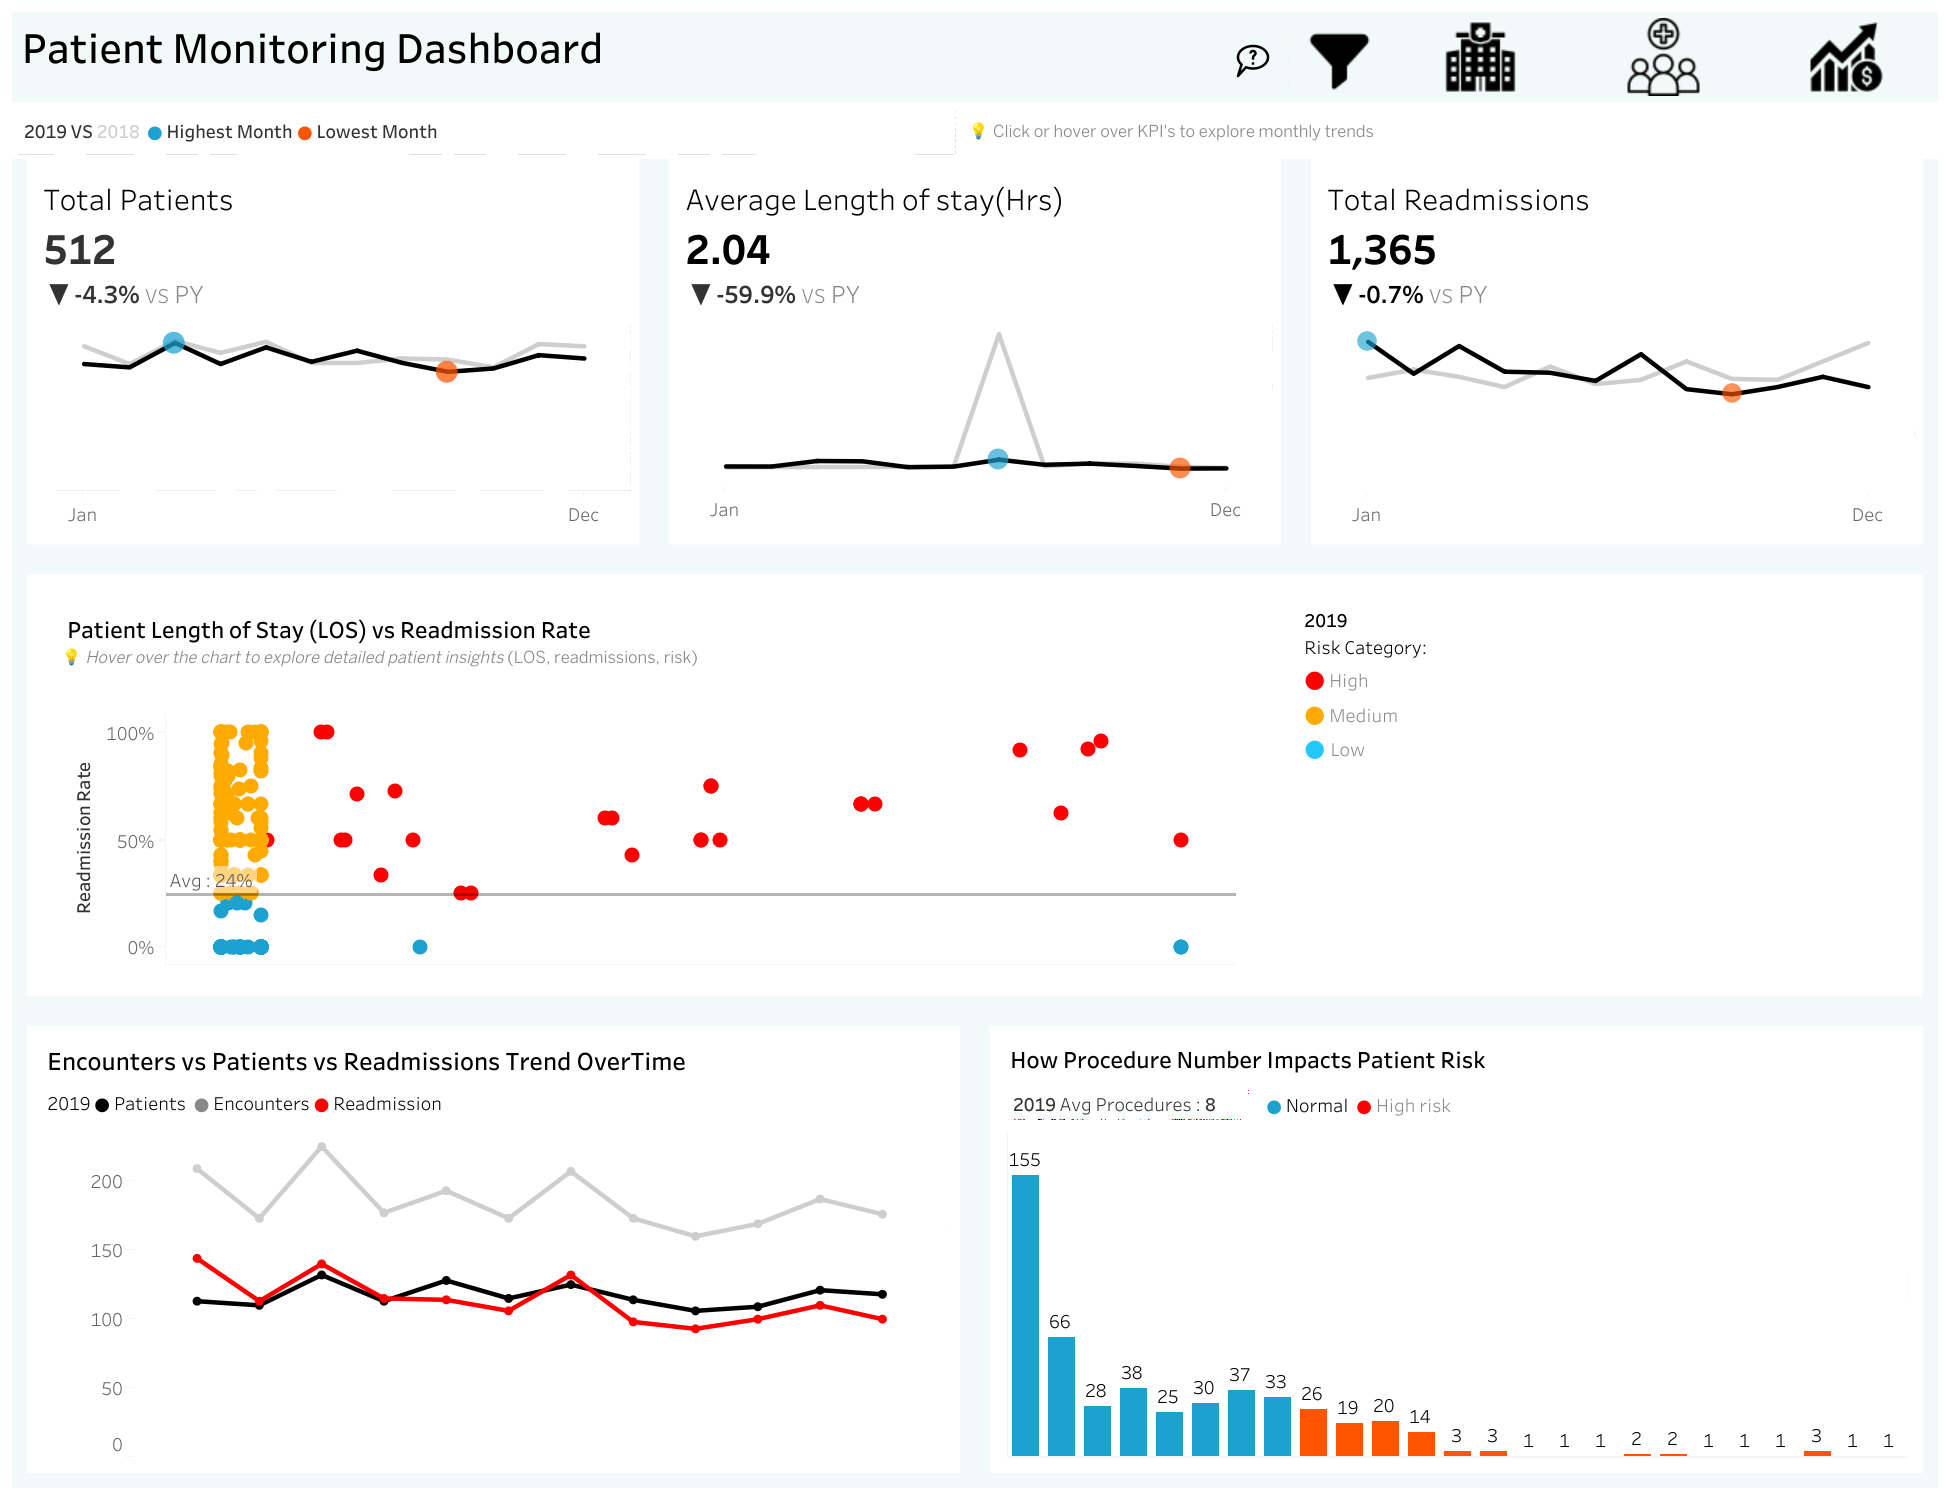

The page's visual inventory and layout, read from the dashboard file:
{"tool":"tableau","page":{"name":"Patient Monitoring Dashboard","canvas":[1300,1000],"ordinal":1},"visuals":[{"type":"text","box":[8,8,918,60]},{"type":"dashboard-object","box":[926,8,122,60]},{"type":"dashboard-object","box":[1048,8,122,60]},{"type":"text","box":[1085,8,207,48]},{"type":"dashboard-object","box":[1170,8,122,60]},{"type":"dashboard-object","box":[867,17,52,46]},{"type":"worksheet","title":"Icon Patients","mark":"Shape","rows":["Calculation_113997431509295104"],"box":[598,18,66,41]},{"type":"worksheet","title":"insight readmissions","mark":"Text","box":[1085,56,207,47]},{"type":"worksheet","title":"Legend KPI","mark":"Automatic","box":[8,68,632,38]},{"type":"text","box":[640,68,652,38]},{"type":"worksheet","title":"insight LOS","mark":"Automatic","box":[1085,103,207,47]},{"type":"worksheet","title":"KPI Patients","mark":"Line","rows":["Calculation_471752121958002691"],"cols":["Encounter_start_time"],"box":[8,106,428,267]},{"type":"worksheet","title":"KPI Length of Stay","mark":"Line","rows":["Calculation_910853084920881166"],"cols":["Encounter_start_time"],"box":[436,106,428,267]},{"type":"worksheet","title":"KPI Readmission","mark":"Line","rows":["Calculation_471752122051129364"],"cols":["Encounter_start_time"],"box":[864,106,428,267]},{"type":"worksheet","title":"insight patient growth","mark":"Automatic","box":[1085,150,207,47]},{"type":"worksheet","title":"Insight procedures","mark":"Automatic","box":[1085,197,207,47]},{"type":"blank","box":[1085,244,207,50]},{"type":"text","box":[1085,294,207,50]},{"type":"parameter","param":"[Parameters].[Parameter 1]","box":[1085,344,207,50]},{"type":"filter","title":"KPI Patients","param":"[federated.0diqimf0krdboo14h8w6v06q0hld].[none:Encounter_class:nk]","box":[1085,394,207,50]},{"type":"text","box":[35,400,794,72]},{"type":"text","box":[863,400,402,160]},{"type":"filter","title":"KPI Patients","param":"[federated.0diqimf0krdboo14h8w6v06q0hld].[none:Procedure_code_description:nk]","box":[1085,444,207,50]},{"type":"worksheet","title":"Readmission rate by Avg LOS","mark":"Circle","rows":["Calculation_386183730815909899"],"cols":["Calculation_386183730841214996"],"box":[35,472,794,175]},{"type":"blank","box":[1085,494,207,50]},{"type":"text","box":[1085,544,207,50]},{"type":"filter","title":"Readmission rate by Avg LOS","param":"[federated.0diqimf0krdboo14h8w6v06q0hld].[none:Patient_key (patients.csv):ok]","box":[1085,594,207,50]},{"type":"filter","title":"KPI Patients","param":"[federated.0diqimf0krdboo14h8w6v06q0hld].[none:Race:nk]","box":[1085,644,207,50]},{"type":"text","box":[25,691,608,74]},{"type":"text","box":[667,691,608,38]},{"type":"filter","title":"KPI Patients","param":"[federated.0diqimf0krdboo14h8w6v06q0hld].[none:Gender:nk]","box":[1085,694,207,50]},{"type":"worksheet","title":"Legend Avg Procedures per patient","mark":"Automatic","box":[667,729,228,33]},{"type":"text","box":[895,729,380,33]},{"type":"blank","box":[1085,744,207,50]},{"type":"worksheet","title":"Patient Distribution","mark":"Bar","rows":["Calculation_471752121956458496"],"cols":["Calculation_471752122128207895"],"box":[667,762,608,213]},{"type":"text","box":[25,765,608,33]},{"type":"text","box":[1085,794,207,50]},{"type":"worksheet","title":"Total Patients vs Encounters & Readmissions ","mark":"Line","rows":["Calculation_910853085099851797"],"cols":["Encounter_start_time"],"box":[25,798,608,177]},{"type":"filter","title":"Readmission rate by Avg LOS","param":"[federated.0diqimf0krdboo14h8w6v06q0hld].[usr:Calculation_386183730844463127:nk:","box":[1085,844,207,50]},{"type":"filter","title":"Patient Distribution","param":"[federated.0diqimf0krdboo14h8w6v06q0hld].[none:Calculation_471752122139582488:nk","box":[1085,894,207,49]},{"type":"blank","box":[1085,943,207,49]}]}

Visuals, with their boxes in screenshot pixels (x1, y1, x2, y2), scaled from the page's 1300x1000 canvas onto the 1949x1499 screenshot:
text: <region>12, 12, 1388, 102</region>
dashboard-object: <region>1388, 12, 1571, 102</region>
dashboard-object: <region>1571, 12, 1754, 102</region>
text: <region>1627, 12, 1937, 84</region>
dashboard-object: <region>1754, 12, 1937, 102</region>
dashboard-object: <region>1300, 25, 1378, 94</region>
"Icon Patients" worksheet (Shape marks): <region>897, 27, 995, 88</region>
"insight readmissions" worksheet (Text marks): <region>1627, 84, 1937, 154</region>
"Legend KPI" worksheet: <region>12, 102, 960, 159</region>
text: <region>960, 102, 1937, 159</region>
"insight LOS" worksheet: <region>1627, 154, 1937, 225</region>
"KPI Patients" worksheet (Line marks): <region>12, 159, 654, 559</region>
"KPI Length of Stay" worksheet (Line marks): <region>654, 159, 1295, 559</region>
"KPI Readmission" worksheet (Line marks): <region>1295, 159, 1937, 559</region>
"insight patient growth" worksheet: <region>1627, 225, 1937, 295</region>
"Insight procedures" worksheet: <region>1627, 295, 1937, 366</region>
blank: <region>1627, 366, 1937, 441</region>
text: <region>1627, 441, 1937, 516</region>
parameter: <region>1627, 516, 1937, 591</region>
"KPI Patients" filter: <region>1627, 591, 1937, 666</region>
text: <region>52, 600, 1243, 708</region>
text: <region>1294, 600, 1897, 839</region>
"KPI Patients" filter: <region>1627, 666, 1937, 741</region>
"Readmission rate by Avg LOS" worksheet (Circle marks): <region>52, 708, 1243, 970</region>
blank: <region>1627, 741, 1937, 815</region>
text: <region>1627, 815, 1937, 890</region>
"Readmission rate by Avg LOS" filter: <region>1627, 890, 1937, 965</region>
"KPI Patients" filter: <region>1627, 965, 1937, 1040</region>
text: <region>37, 1036, 949, 1147</region>
text: <region>1000, 1036, 1912, 1093</region>
"KPI Patients" filter: <region>1627, 1040, 1937, 1115</region>
"Legend Avg Procedures per patient" worksheet: <region>1000, 1093, 1342, 1142</region>
text: <region>1342, 1093, 1912, 1142</region>
blank: <region>1627, 1115, 1937, 1190</region>
"Patient Distribution" worksheet (Bar marks): <region>1000, 1142, 1912, 1462</region>
text: <region>37, 1147, 949, 1196</region>
text: <region>1627, 1190, 1937, 1265</region>
"Total Patients vs Encounters & Readmissions " worksheet (Line marks): <region>37, 1196, 949, 1462</region>
"Readmission rate by Avg LOS" filter: <region>1627, 1265, 1937, 1340</region>
"Patient Distribution" filter: <region>1627, 1340, 1937, 1414</region>
blank: <region>1627, 1414, 1937, 1487</region>
